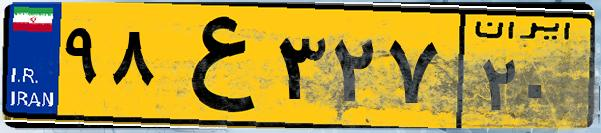0: (525, 38, 570, 115)
2: (330, 28, 385, 110), (475, 38, 525, 113)
3: (270, 28, 330, 110)
7: (385, 28, 445, 110)
8: (110, 28, 158, 98)
9: (57, 26, 110, 100)
ع: (158, 12, 270, 120)
